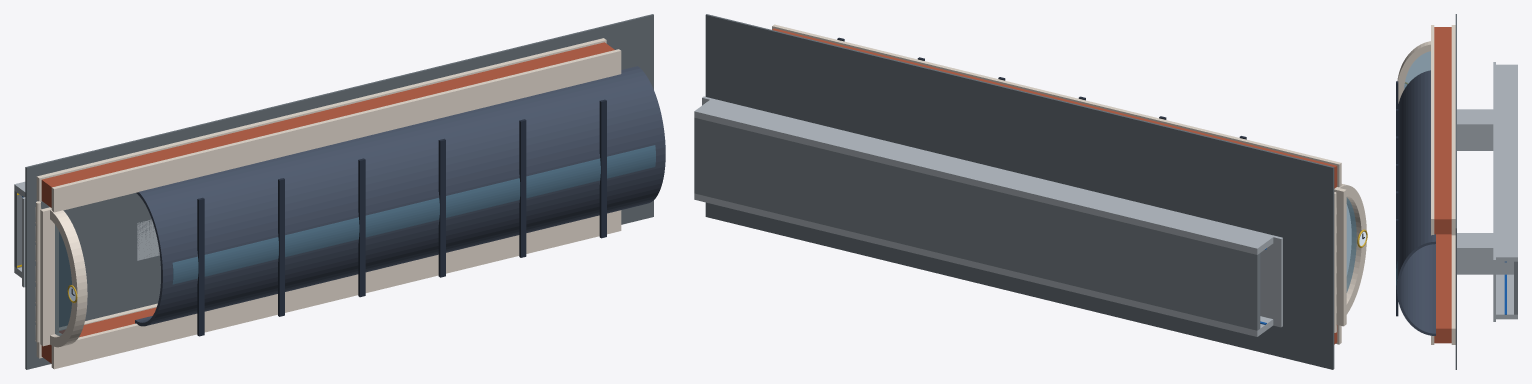
The model's file is hua-lamphong.glb.
The picture shows the model from 3 angles, left to right: view 1: azimuth 30°, elevation 25°; view 2: azimuth 150°, elevation 25°; view 3: azimuth 270°, elevation 25°; orthographic projection. The views are drawn at different scales.
Visible parts, largest first — view 1: TrainShedSemiCircularVault, HistoricSurfaceTerminal, PlazaSlab, TrainShedSkylight, ClassicalWing_North, PorticoCanopy, FrontArchSurround, StainedGlassLunette, ClassicalWing_South, FrontNeoRenaissanceFacade, EntranceShaft_-45, MrtPlatformDeck; view 2: PlazaSlab, MrtPlatformDeck, UndergroundMRTStation, CavernCeilingSlab, HistoricSurfaceTerminal, ClassicalWing_North, FrontArchSurround, PorticoCanopy, StainedGlassLunette; view 3: TrainShedSemiCircularVault, UndergroundMRTStation, ClassicalWing_North, HistoricSurfaceTerminal, EntranceShaft_45, ClassicalWing_South, EntranceShaft_-45, PlazaSlab, CavernCeilingSlab, FrontArchSurround, StainedGlassLunette, MrtPlatformDeck (+1 smaller).
Part boxes in pixels (x1,y1,x2,y2): TrainShedSemiCircularVault: [135, 66, 665, 326]; HistoricSurfaceTerminal: [36, 38, 621, 369]; PlazaSlab: [25, 14, 653, 369]; TrainShedSkylight: [172, 145, 655, 284]; ClassicalWing_North: [41, 42, 614, 207]; PorticoCanopy: [40, 207, 58, 346]; FrontArchSurround: [50, 209, 87, 347]; StainedGlassLunette: [55, 225, 71, 335]; ClassicalWing_South: [41, 307, 156, 363]; FrontNeoRenaissanceFacade: [35, 201, 41, 342]; EntranceShaft_-45: [137, 219, 159, 260]; MrtPlatformDeck: [14, 191, 22, 268]; PlazaSlab: [705, 14, 1334, 369]; MrtPlatformDeck: [694, 117, 1260, 330]; UndergroundMRTStation: [694, 100, 1273, 336]; CavernCeilingSlab: [702, 96, 1282, 327]; HistoricSurfaceTerminal: [772, 24, 1341, 344]; ClassicalWing_North: [772, 28, 1337, 188]; FrontArchSurround: [1337, 184, 1366, 314]; PorticoCanopy: [1334, 187, 1346, 326]; StainedGlassLunette: [1346, 197, 1356, 292]; TrainShedSemiCircularVault: [1397, 70, 1435, 335]; UndergroundMRTStation: [1494, 64, 1517, 319]; ClassicalWing_North: [1434, 27, 1451, 234]; HistoricSurfaceTerminal: [1396, 25, 1455, 344]; EntranceShaft_45: [1457, 233, 1513, 274]; ClassicalWing_South: [1434, 234, 1451, 343]; EntranceShaft_-45: [1457, 109, 1493, 150]; PlazaSlab: [1455, 14, 1456, 369]; CavernCeilingSlab: [1493, 62, 1495, 321]; FrontArchSurround: [1397, 41, 1430, 103]; StainedGlassLunette: [1404, 51, 1430, 88]; MrtPlatformDeck: [1514, 261, 1517, 314].
Bounding box in the file's own units: 156 × 48 × 37.5.
